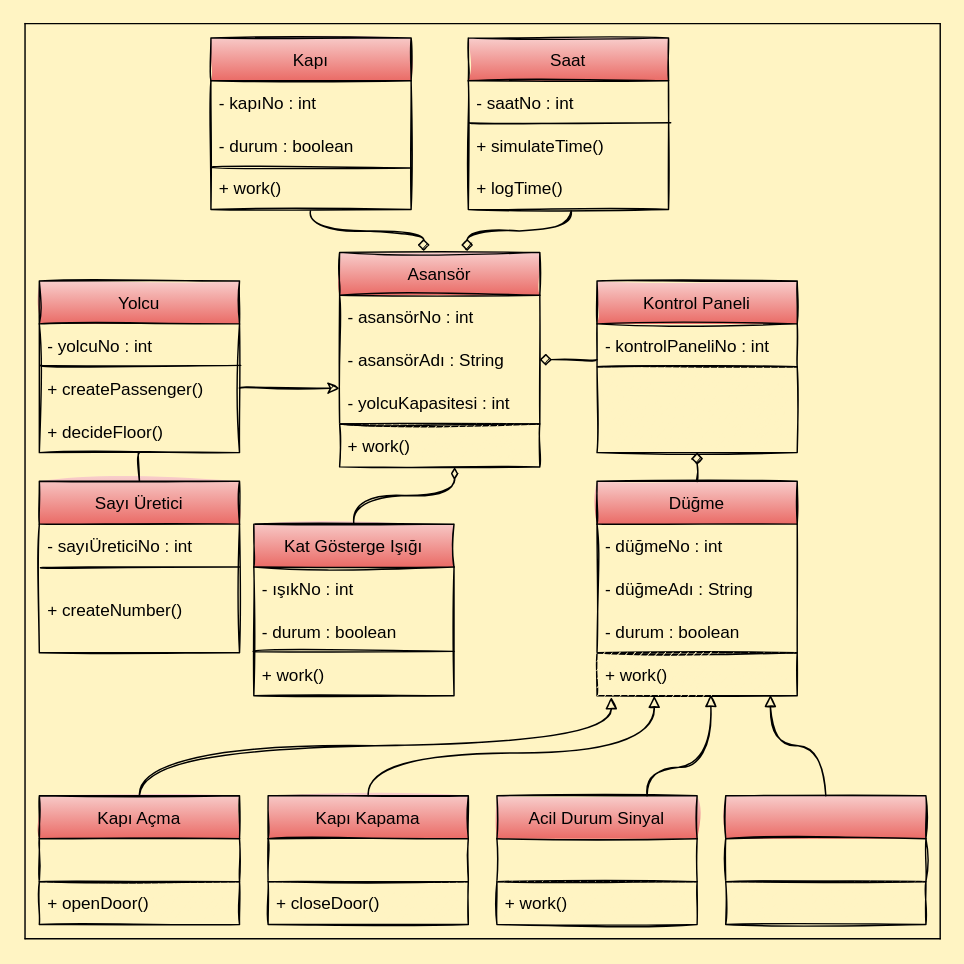
The diagram is 964 pixels wide and 964 high, and some of its shapes have lost their labels. The shapes that lost their labels are listed below. From the top down, each one's centre as x and y in pixels, then its label:
At [825,838]: "Hedef".
At [825,902]: "+ callElevator()".
